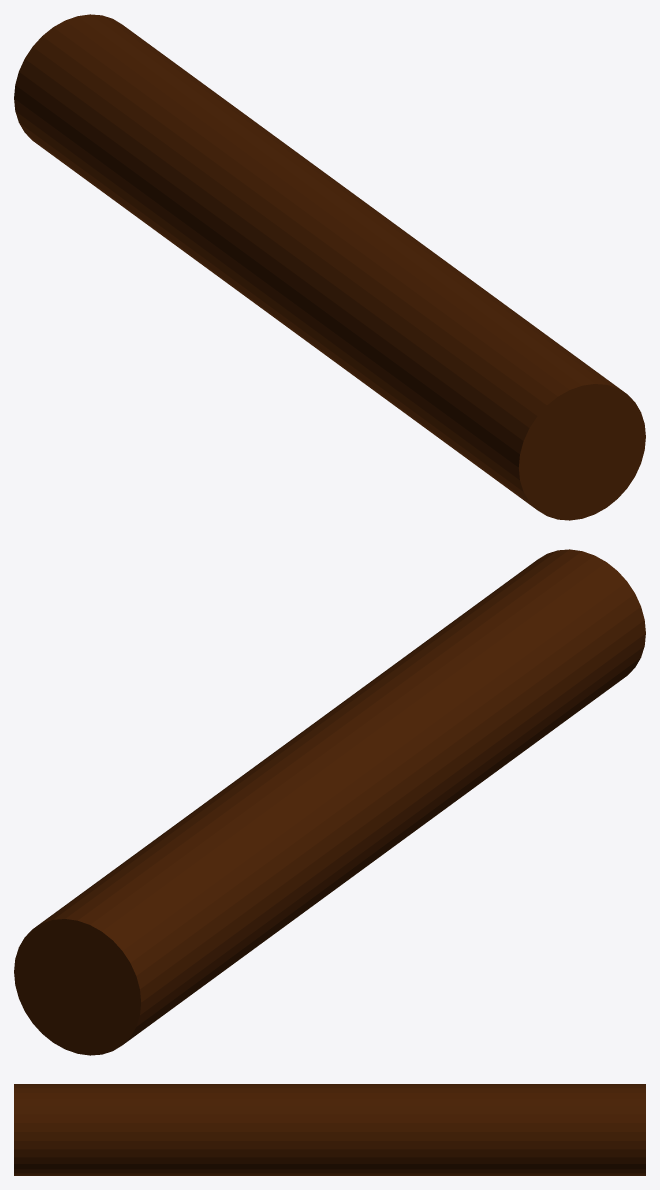
Rendered from bareau.fbx.
The picture shows the model from 3 angles, top to bottom: view 1: azimuth 30°, elevation 25°; view 2: azimuth 150°, elevation 25°; view 3: azimuth 270°, elevation 25°; orthographic projection. The views are drawn at different scales.
Parts seen in each view (by area): view 1: Cylinder.002; view 2: Cylinder.002; view 3: Cylinder.002.
Boxes of the visible parts, x1=… form: Cylinder.002: x1=14, y1=14, x2=645, y2=520; Cylinder.002: x1=14, y1=549, x2=645, y2=1055; Cylinder.002: x1=14, y1=1084, x2=645, y2=1175.
Size of the model in its own units: 32.64 by 32.64 by 224.
